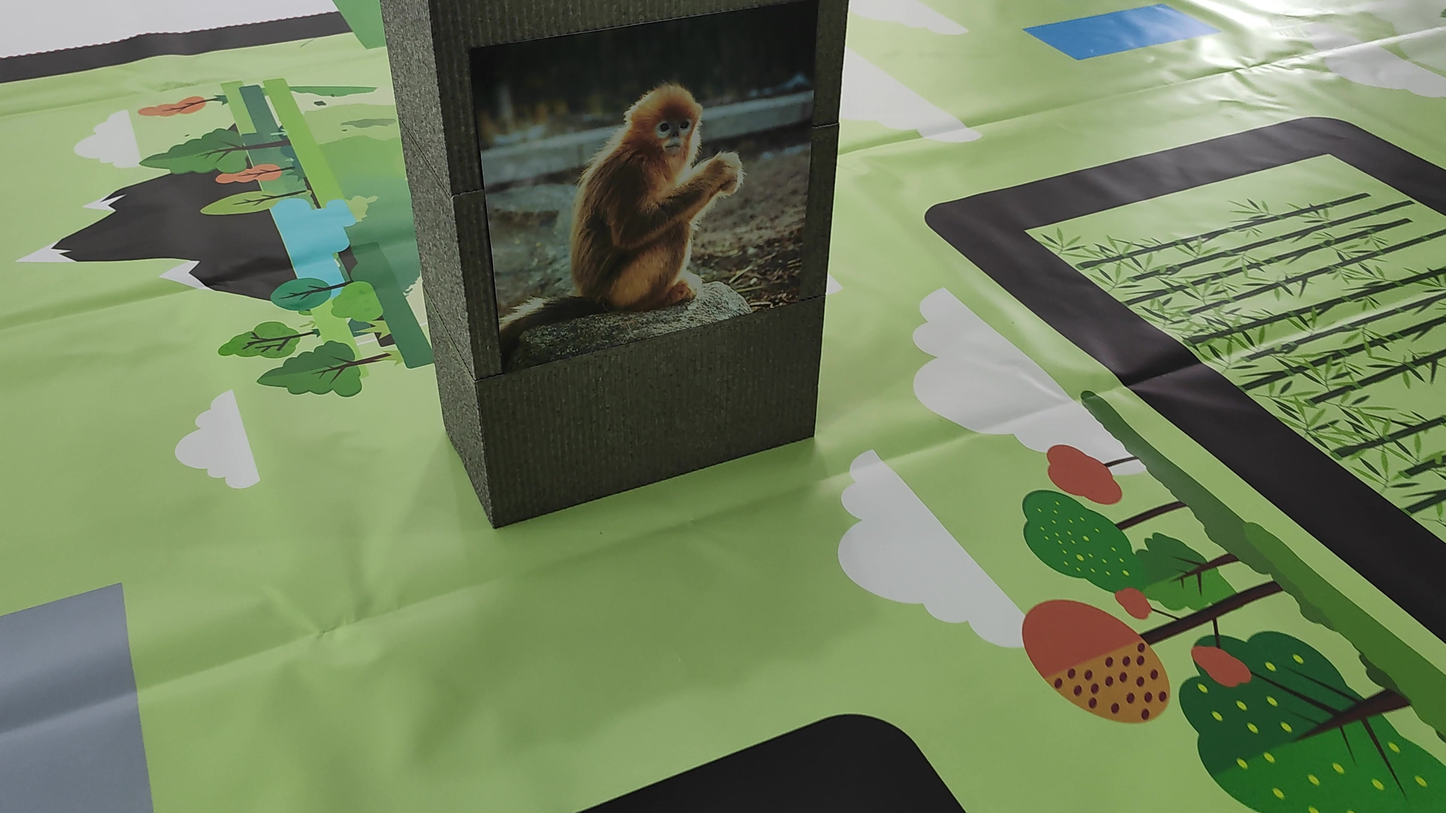monkey: (491, 72, 766, 347)
